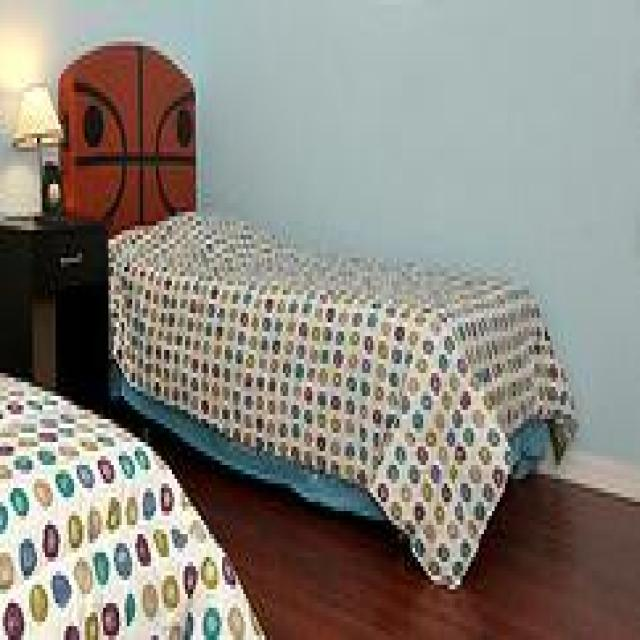bed: (56, 37, 576, 589)
